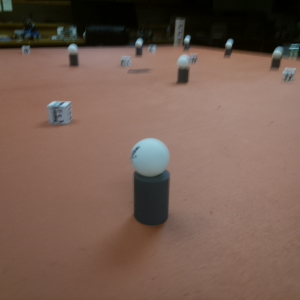obstacle: (130, 137, 171, 225), (176, 55, 193, 83), (68, 44, 82, 68), (270, 46, 283, 71), (135, 37, 143, 57), (225, 38, 233, 56), (185, 35, 194, 50)
